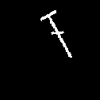double_crochet: (41, 10, 71, 56)
